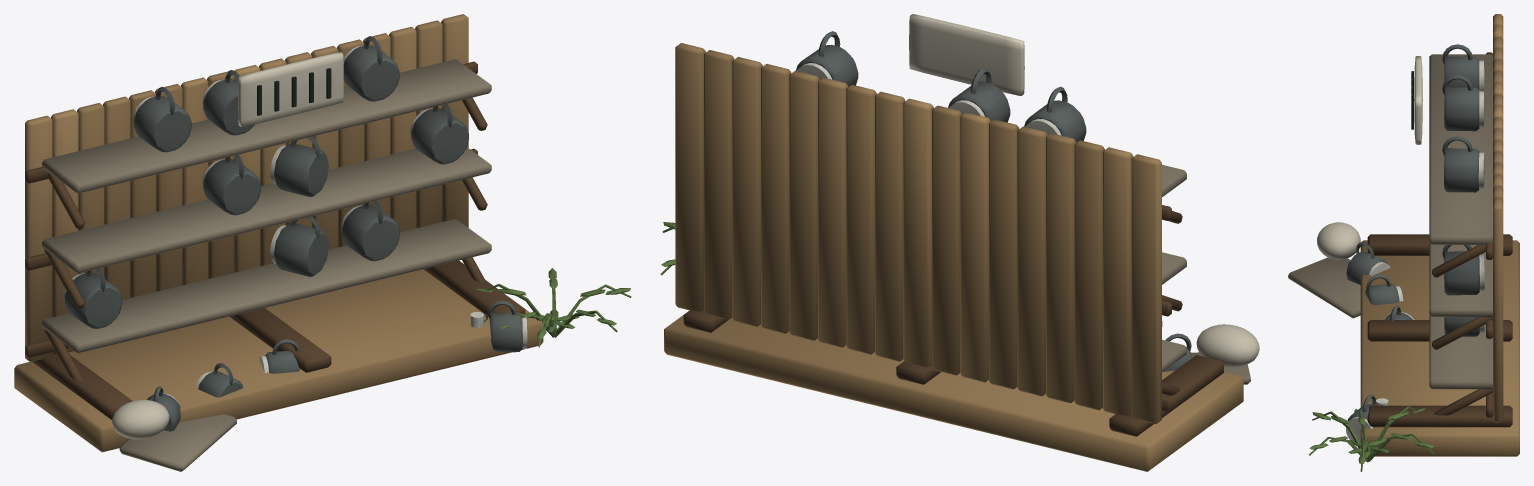
Rendered from lamp_rack_b.glb.
The picture shows the model from 3 angles, left to right: view 1: azimuth 30°, elevation 25°; view 2: azimuth 150°, elevation 25°; view 3: azimuth 270°, elevation 25°; orthographic projection. The views are drawn at different scales.
Parts seen in each view (by area): view 1: Surface; view 2: Surface; view 3: Surface.
Part boxes in pixels (x1,y1,x2,y2): Surface: (14, 14, 631, 471); Surface: (660, 14, 1259, 471); Surface: (1288, 14, 1519, 471).
Bounding box in the file's own units: 7.71 × 4.31 × 3.2.
